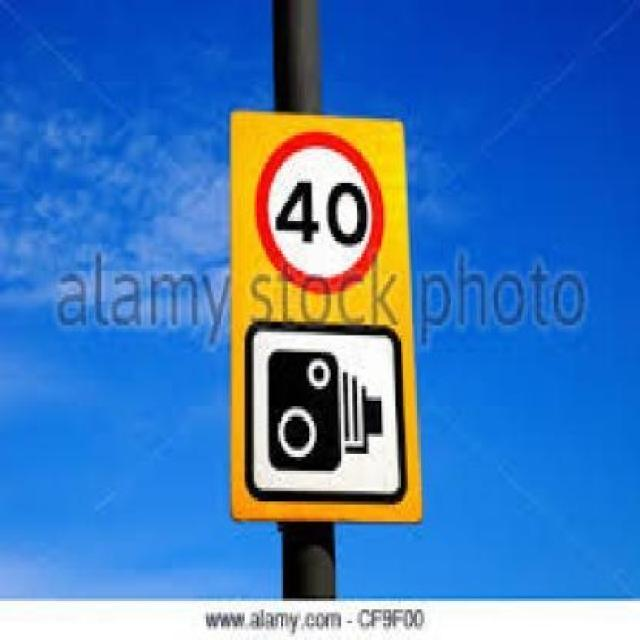forb_speed_over_40: (260, 135, 382, 292)
